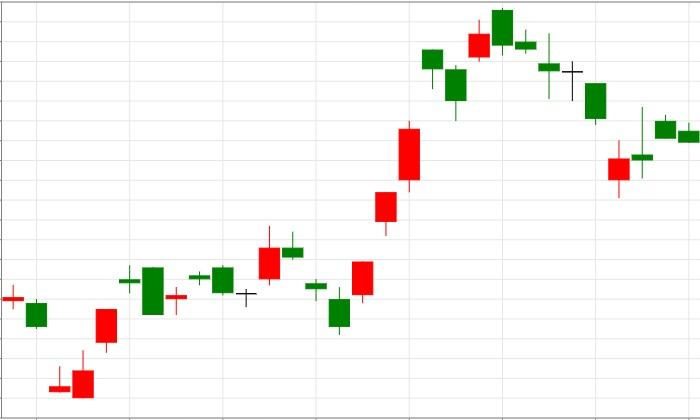three_white_soldiers_rise: (282, 121, 420, 336)
